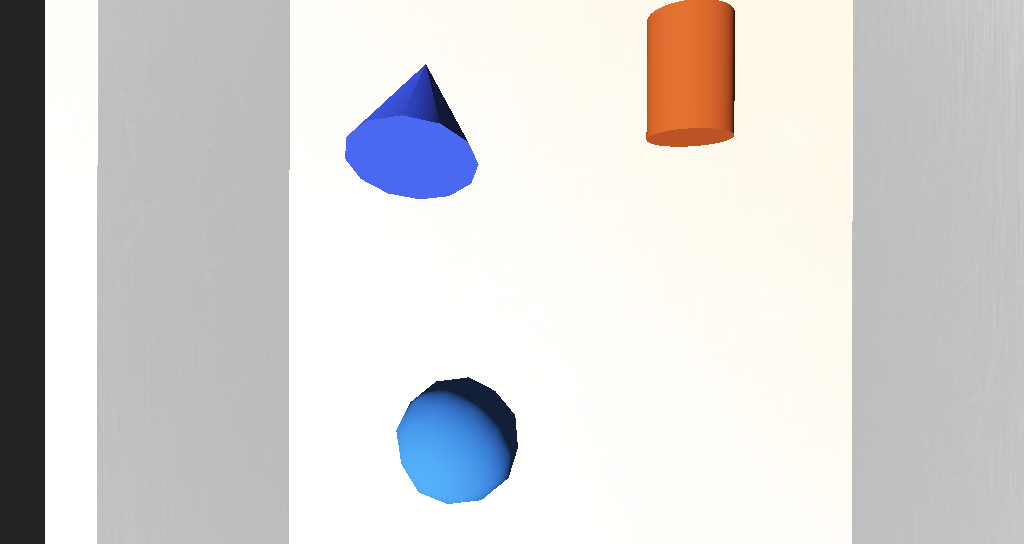cone: (539, 172, 593, 220)
cylinder: (387, 174, 461, 246)
sphere: (411, 308, 478, 351)
